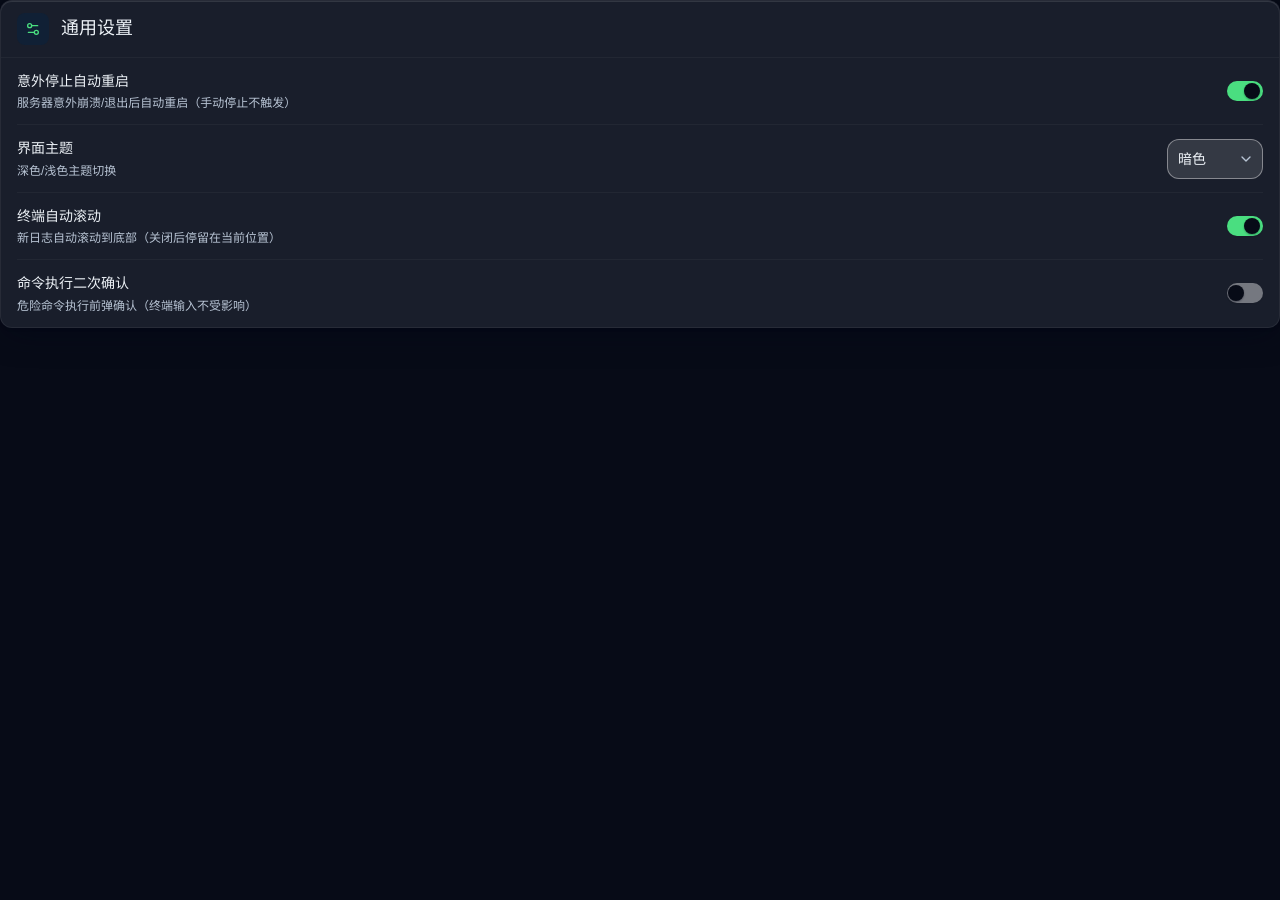
Test: GeneralPanel autoRestart 切换 › 序号守卫：陈旧请求失败不回滚不弹错（最新切换成功为准）
What coordinates should you click on to do the following:
click the switch named "意外停止自动重启"
I would click on:
 (1245, 91)
Its box is left=1227, top=81, right=1263, bottom=101.
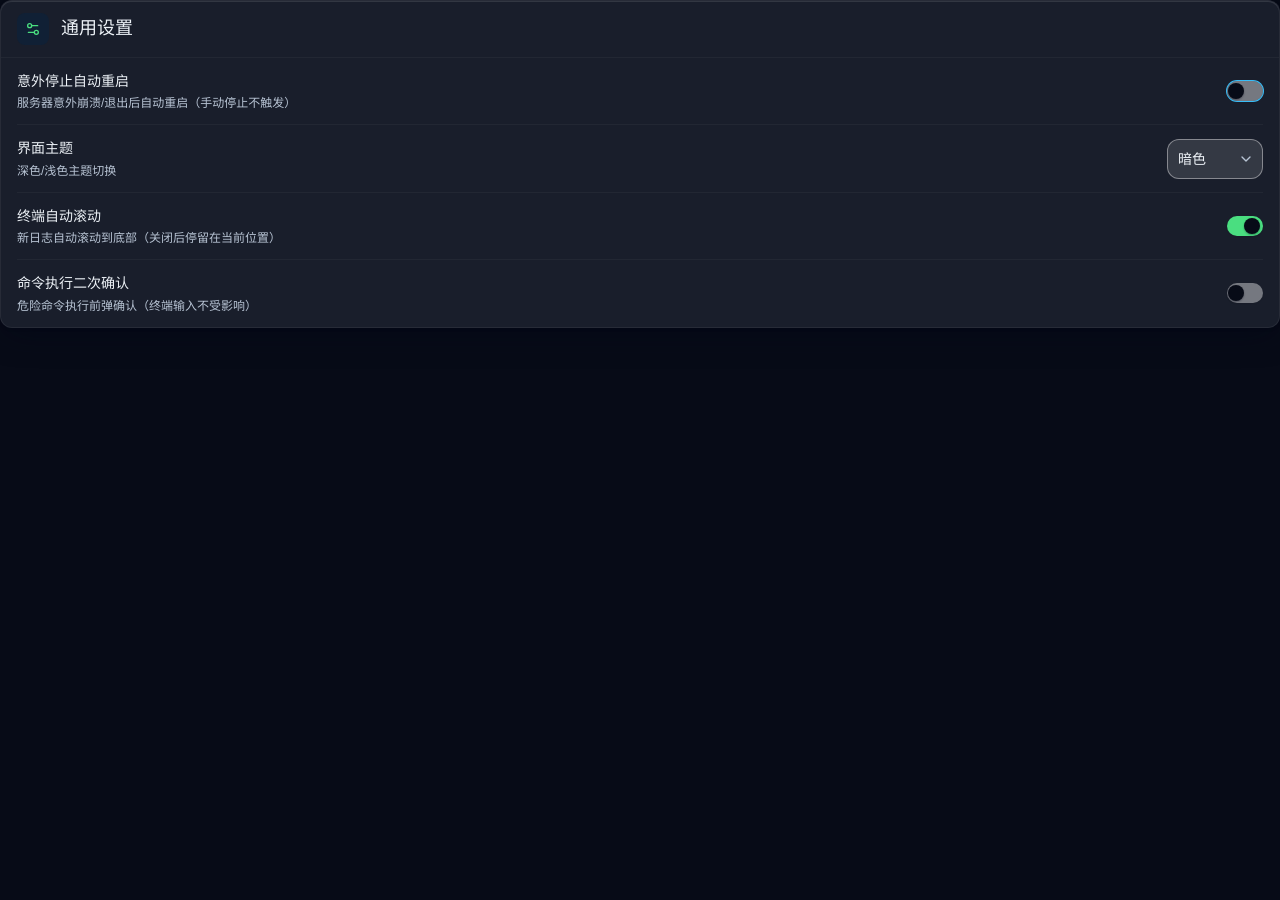
What coordinates should you click on to do the following:
click the switch named "意外停止自动重启"
I would click on:
 (1245, 91)
Its box is left=1227, top=81, right=1263, bottom=101.
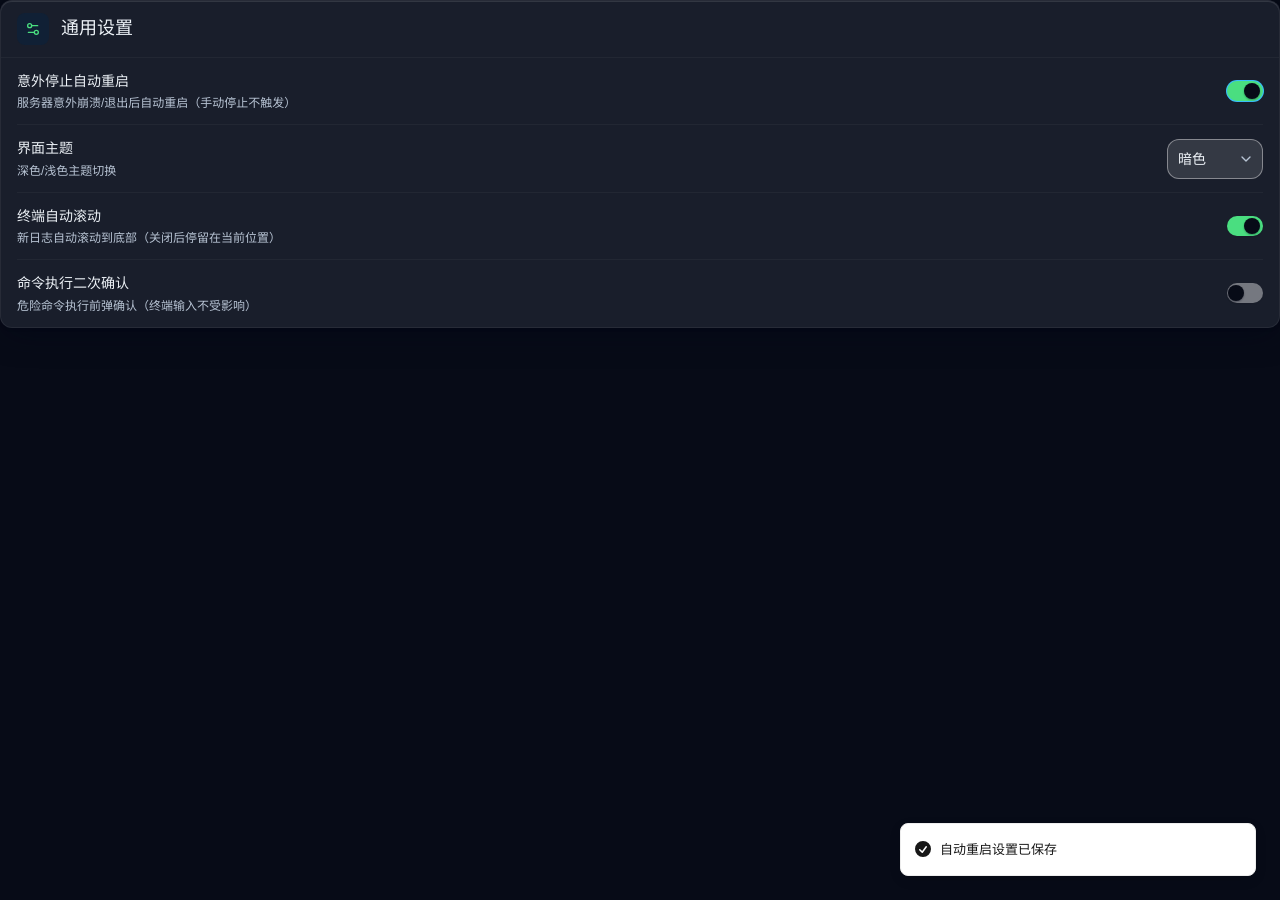
Now the text "自动重启设置已保存" is shown once, box left=940, top=840, right=1057, bottom=859
